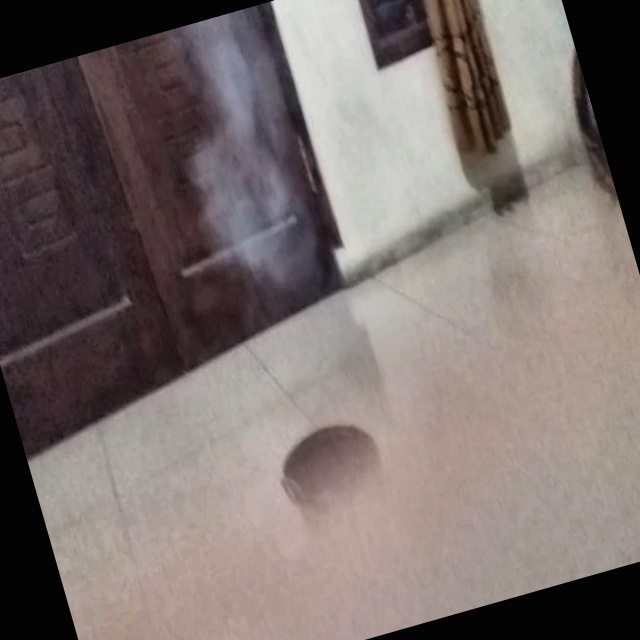smoke: (164, 39, 445, 354)
